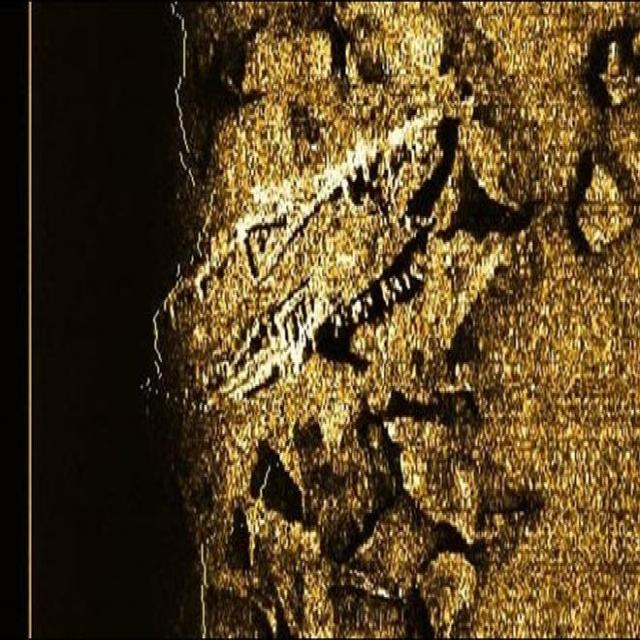ship: (136, 115, 448, 395)
